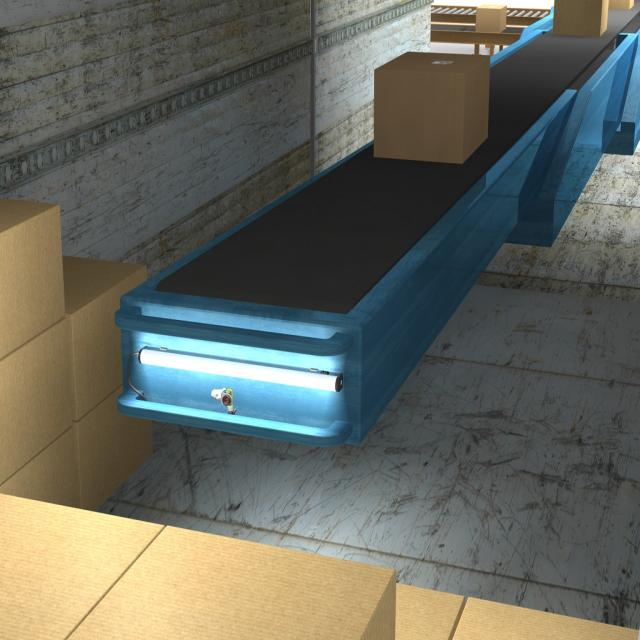Convoyeur: (105, 1, 640, 441), (406, 0, 560, 42)
